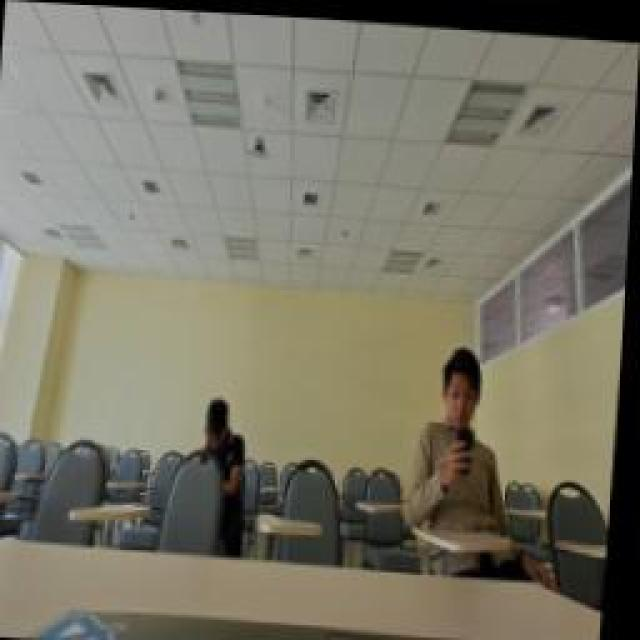phone: (412, 337, 522, 525)
study: (197, 380, 255, 490)
